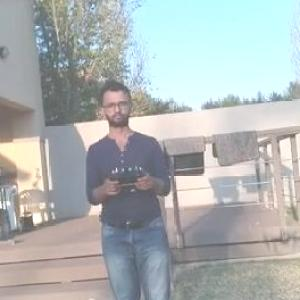follow: (82, 74, 175, 299)
